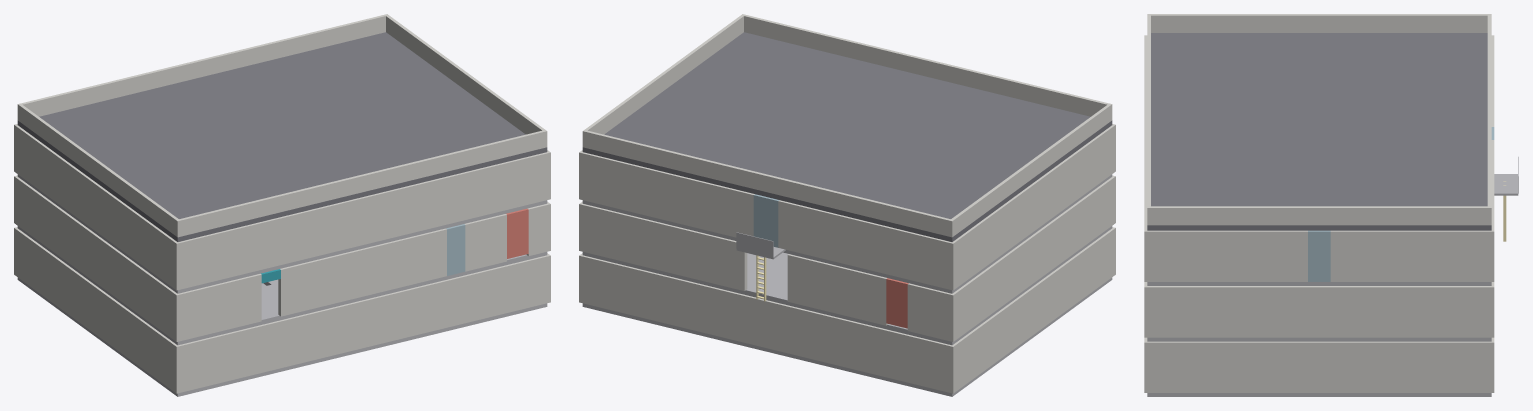
File: apartment_walkup_a01.glb
The picture shows the model from 3 angles, left to right: view 1: azimuth 30°, elevation 25°; view 2: azimuth 150°, elevation 25°; view 3: azimuth 270°, elevation 25°; orthographic projection. The views are drawn at different scales.
Parts seen in each view (by area): view 1: slab_2_t1_1, slab_2_t1_2, slab_2_t1_3, slab_2_t2_2, slab_2_t2_3, slab_2_t2_1, slab_2_t2_4, slab_2_t1_4, slab_2_t3_1, slab_2_t3_2, slab_2_t3_3, slab_2_t3_4 (+91 smaller); view 2: slab_2_t2_1, slab_2_t1_2, slab_2_t1_3, slab_2_t2_2, slab_2_t2_3, slab_2_t1_1, slab_2_t1_4, slab_2_t2_4, slab_2_t0_1, slab_2_t0_2, slab_2_t0_3, slab_2_t0_4 (+93 smaller); view 3: slab_2_t1_3, slab_2_t2_3, slab_2_t1_1, slab_2_t1_2, slab_2_t2_1, slab_2_t2_2, slab_2_t3_3, slab_2_t0_3, slab_2_t0_1, slab_2_t0_2, slab_2_t3_1, slab_2_t3_2 (+60 smaller).
Boxes of the visible parts, left/top/right/bottom form: slab_2_t1_1: left=172, top=143, right=284, bottom=189; slab_2_t1_2: left=246, top=125, right=358, bottom=171; slab_2_t1_3: left=320, top=106, right=432, bottom=153; slab_2_t2_2: left=206, top=95, right=318, bottom=142; slab_2_t2_3: left=279, top=77, right=392, bottom=124; slab_2_t2_1: left=132, top=113, right=244, bottom=160; slab_2_t2_4: left=353, top=60, right=463, bottom=106; slab_2_t1_4: left=394, top=89, right=503, bottom=135; slab_2_t3_1: left=93, top=85, right=205, bottom=131; slab_2_t3_2: left=167, top=67, right=278, bottom=113; slab_2_t3_3: left=241, top=49, right=352, bottom=95; slab_2_t3_4: left=315, top=32, right=423, bottom=77; slab_2_t2_1: left=845, top=143, right=957, bottom=189; slab_2_t1_2: left=811, top=95, right=923, bottom=142; slab_2_t1_3: left=737, top=77, right=850, bottom=124; slab_2_t2_2: left=771, top=125, right=883, bottom=171; slab_2_t2_3: left=697, top=106, right=809, bottom=153; slab_2_t1_1: left=885, top=113, right=997, bottom=160; slab_2_t1_4: left=666, top=60, right=776, bottom=106; slab_2_t2_4: left=626, top=89, right=735, bottom=135; slab_2_t0_1: left=924, top=85, right=1036, bottom=131; slab_2_t0_2: left=851, top=67, right=962, bottom=113; slab_2_t0_3: left=777, top=49, right=888, bottom=95; slab_2_t0_4: left=706, top=32, right=814, bottom=77; slab_2_t1_3: left=1233, top=147, right=1319, bottom=186; slab_2_t2_3: left=1319, top=147, right=1405, bottom=186; slab_2_t1_1: left=1233, top=70, right=1319, bottom=108; slab_2_t1_2: left=1233, top=109, right=1319, bottom=147; slab_2_t2_1: left=1319, top=70, right=1405, bottom=108; slab_2_t2_2: left=1319, top=109, right=1405, bottom=147; slab_2_t3_3: left=1405, top=147, right=1487, bottom=186; slab_2_t0_3: left=1151, top=147, right=1233, bottom=186; slab_2_t0_1: left=1151, top=70, right=1233, bottom=108; slab_2_t0_2: left=1151, top=109, right=1233, bottom=147; slab_2_t3_1: left=1405, top=70, right=1487, bottom=108; slab_2_t3_2: left=1405, top=109, right=1487, bottom=147.
Size of what is drawn, in the model's own units: 24.3 by 10.9 by 19.57.
